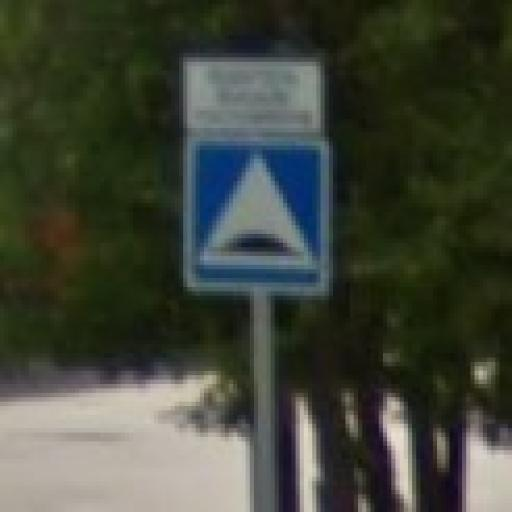traffic_sign: (184, 133, 330, 297)
